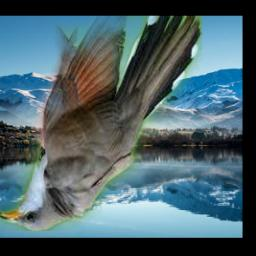Cuckoo: (0, 16, 201, 231)
